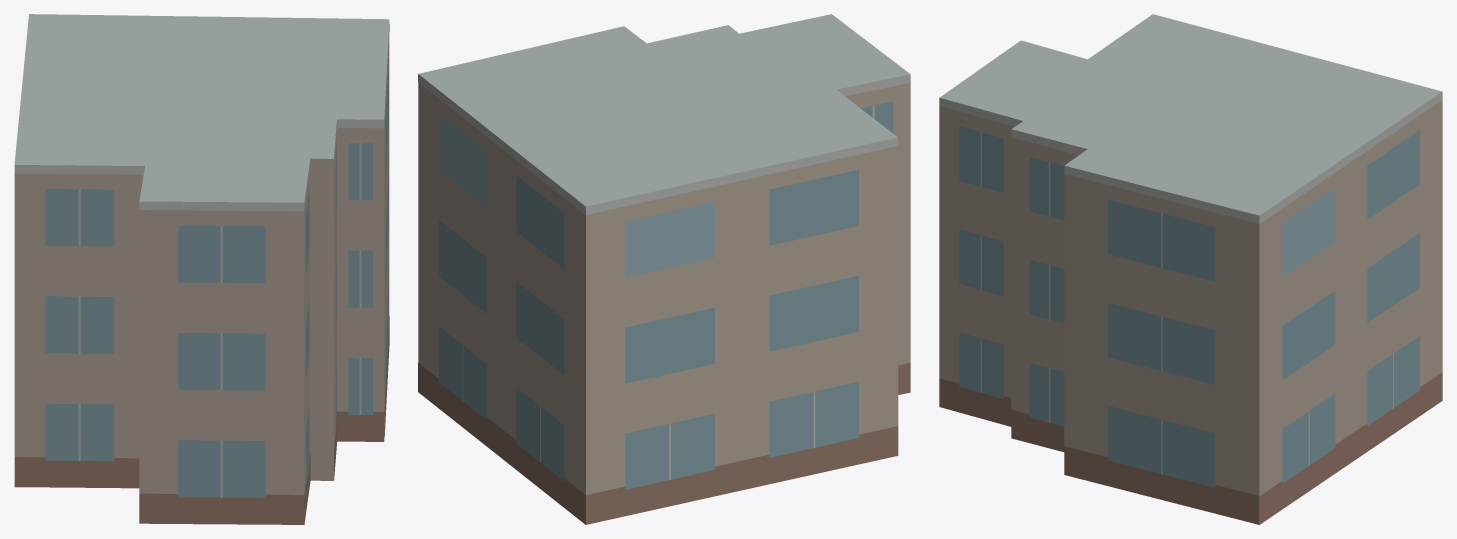
File: survey-upis-32585243.glb
3 views of the same model, side by side, from view 1: azimuth 30°, elevation 25°; view 2: azimuth 150°, elevation 25°; view 3: azimuth 270°, elevation 25° (orthographic). The views are drawn at different scales.
Parts seen in each view (by area): view 1: survey-upis-32585243.tmp; view 2: survey-upis-32585243.tmp; view 3: survey-upis-32585243.tmp.
Boxes of the visible parts, x1,y1,x2,y2 form: survey-upis-32585243.tmp: (14, 14, 389, 524); survey-upis-32585243.tmp: (418, 14, 910, 524); survey-upis-32585243.tmp: (939, 14, 1442, 524).
Bounding box in the file's own units: 12.81 × 9.15 × 13.5.
